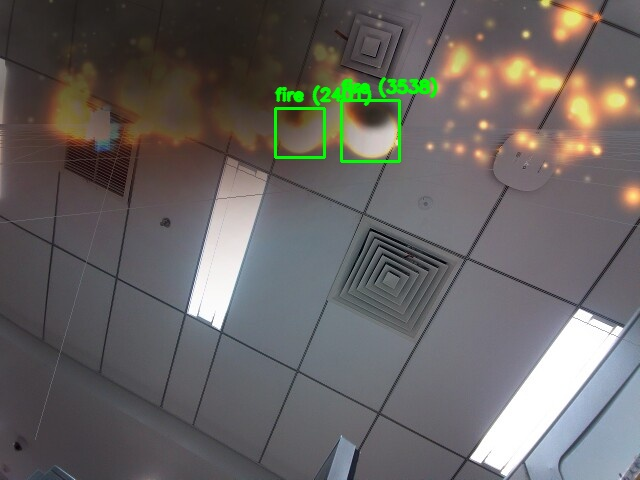fire: (341, 100, 399, 161), (275, 108, 324, 157)
